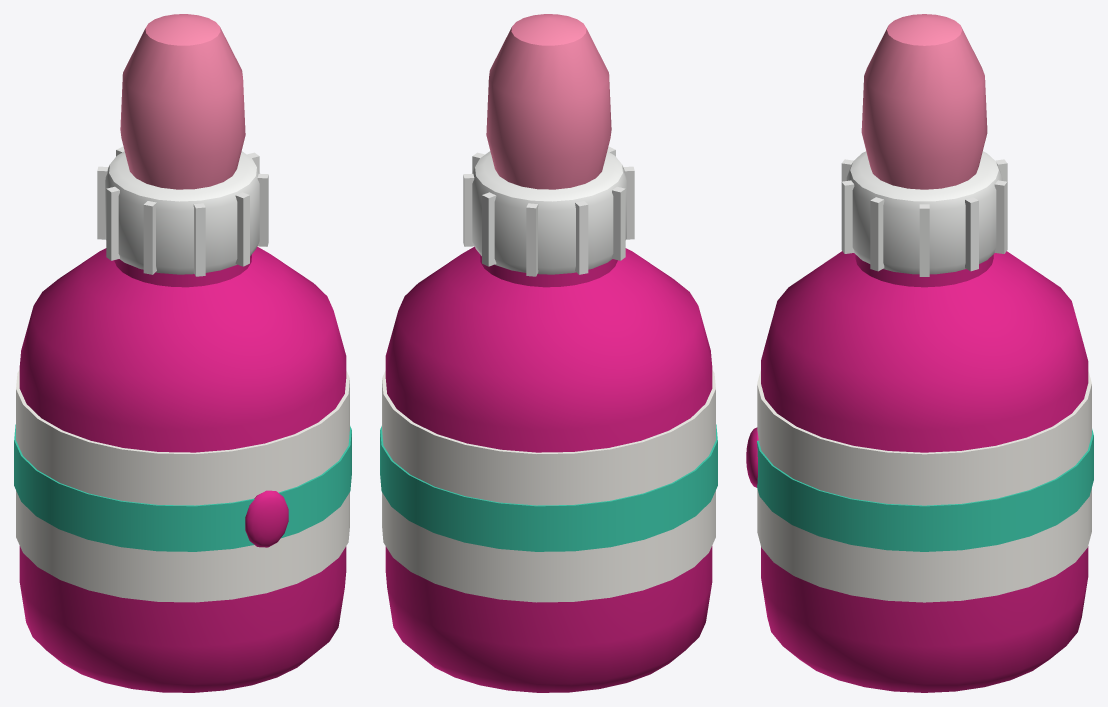
The model's file is extra_disclosing.glb.
The picture shows the model from 3 angles, left to right: view 1: azimuth 30°, elevation 25°; view 2: azimuth 150°, elevation 25°; view 3: azimuth 270°, elevation 25°; orthographic projection.
Parts seen in each view (by area): view 1: extra_disclosing; view 2: extra_disclosing; view 3: extra_disclosing.
Boxes of the visible parts, bbox=[...] form: extra_disclosing: bbox=[14, 14, 351, 692]; extra_disclosing: bbox=[380, 14, 717, 692]; extra_disclosing: bbox=[746, 14, 1093, 692].
Size of the model in its own units: 2.69 by 5.4 by 2.76.
